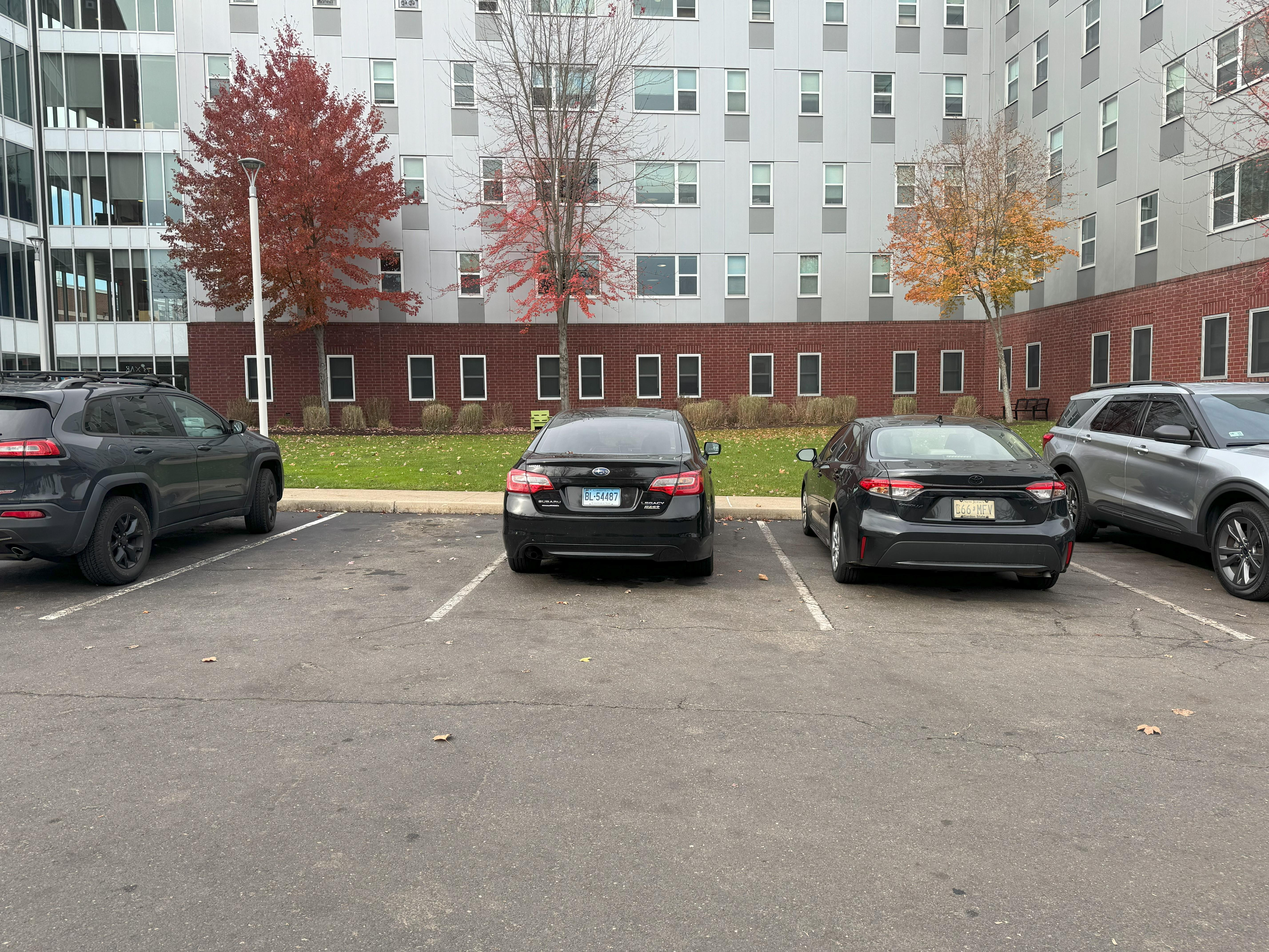empty: (227, 494, 482, 623)
occupied: (787, 403, 1077, 631), (12, 336, 269, 579), (1045, 354, 1260, 611), (489, 394, 752, 602)
